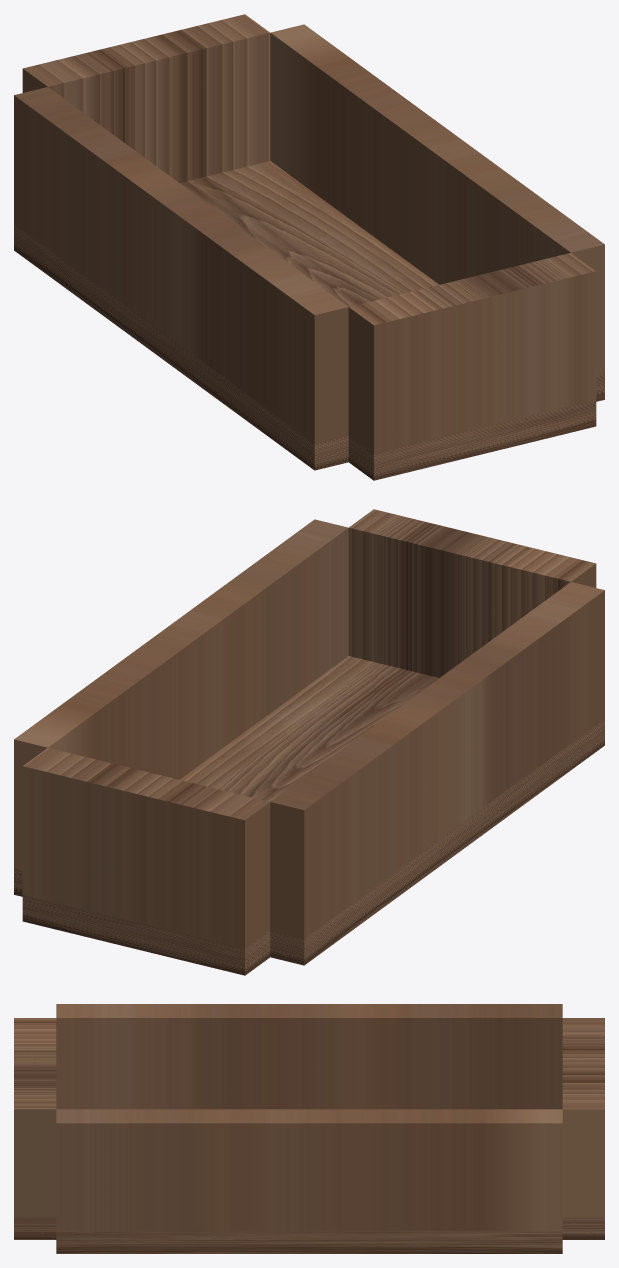
The model's file is WoodBasket.fbx.
3 views of the same model, one above another, from view 1: azimuth 30°, elevation 25°; view 2: azimuth 150°, elevation 25°; view 3: azimuth 270°, elevation 25° (orthographic). The views are drawn at different scales.
Visible parts, largest first — view 1: Cube; view 2: Cube; view 3: Cube.
Part boxes in pixels (left/top/right/bottom): Cube: left=14, top=14, right=604, bottom=480; Cube: left=14, top=509, right=604, bottom=975; Cube: left=14, top=1004, right=604, bottom=1253.
Size of the model in its own units: 595 by 304 by 1246.
1 material, 1 textured.
